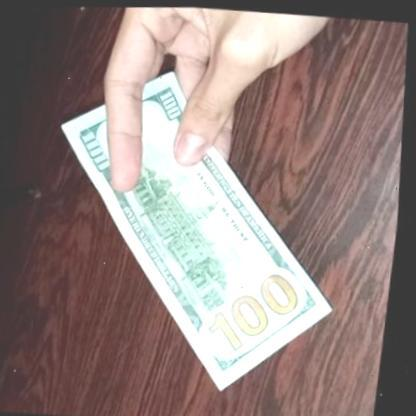one_hundred-back: (17, 48, 378, 408)
